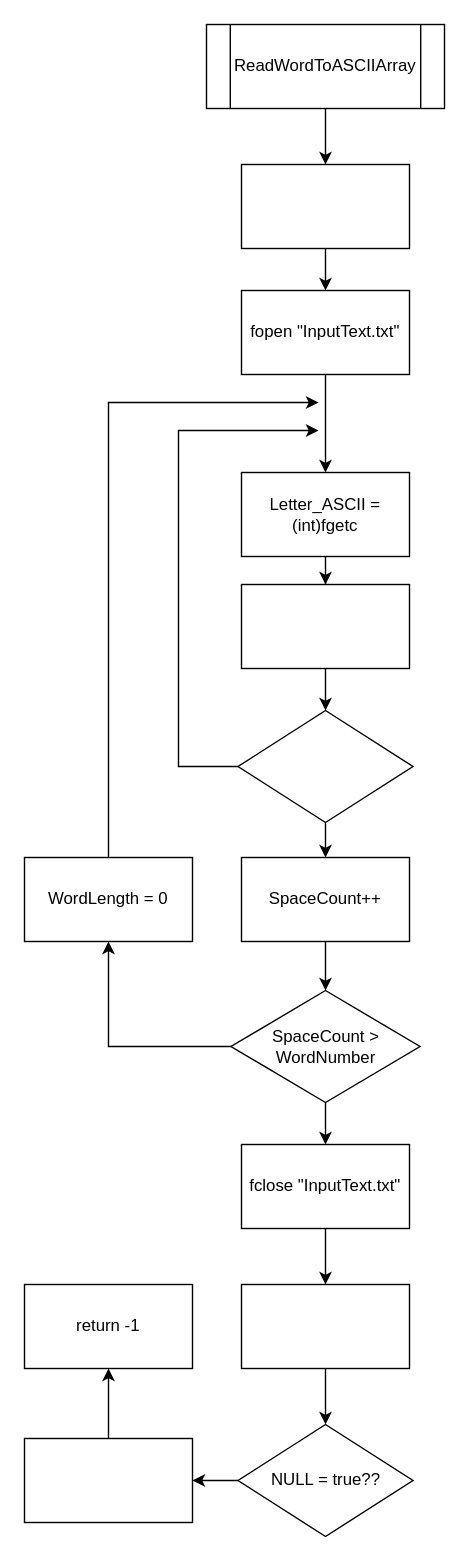
The diagram is 469 pixels wide and 1561 high, and some of its shapes have lost their labels. Each missing label, with the centre of its shape:
ASCII_Array = calloc(WordLength): (325,1325)
Letter_ASCII = 32?: (325,765)
printf "memory could not be allocated - terminating": (107,1479)
Static int WordNumber = 0: (325,205)
WordLength++: (325,625)
